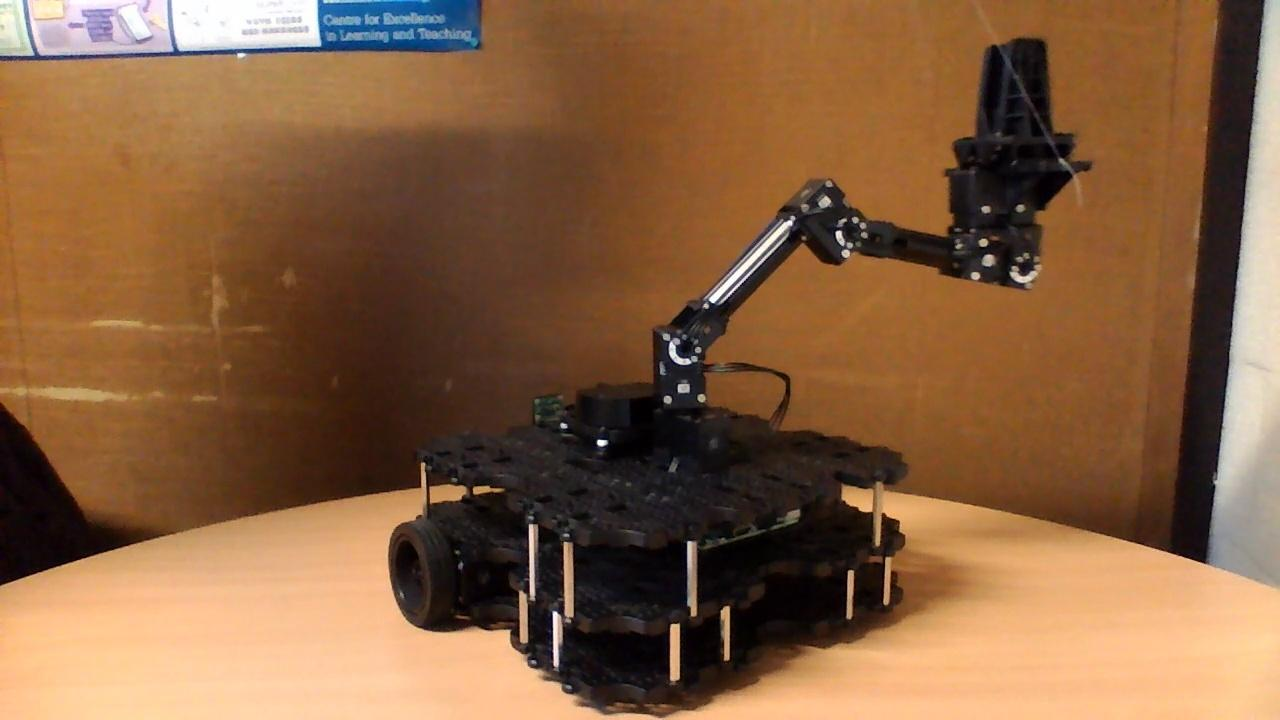Arm: (645, 174, 864, 372)
Hand: (935, 34, 1100, 227)
Wrist: (826, 210, 1049, 294)
base: (384, 382, 914, 696)
